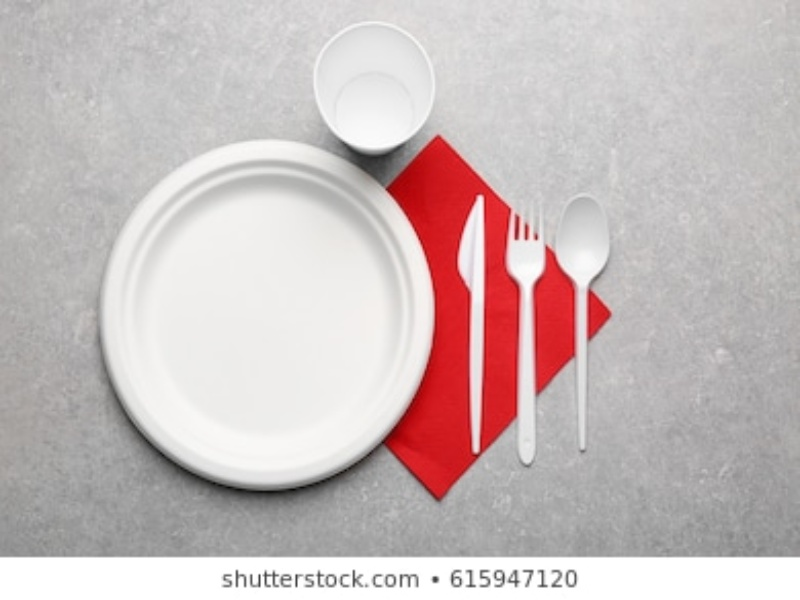plastic-cup: (313, 21, 436, 157)
plastic-plate: (93, 136, 435, 495)
plastic-silverware: (556, 186, 609, 455), (504, 197, 550, 466), (451, 195, 484, 455)
